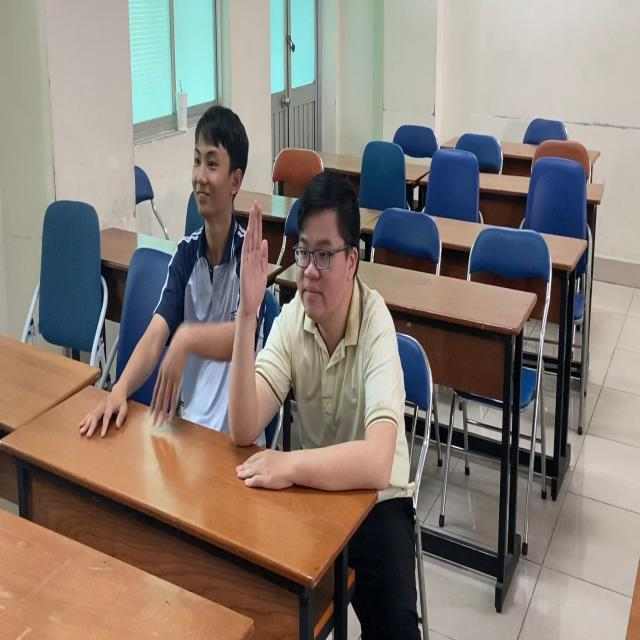raise_hand: (226, 181, 400, 512)
